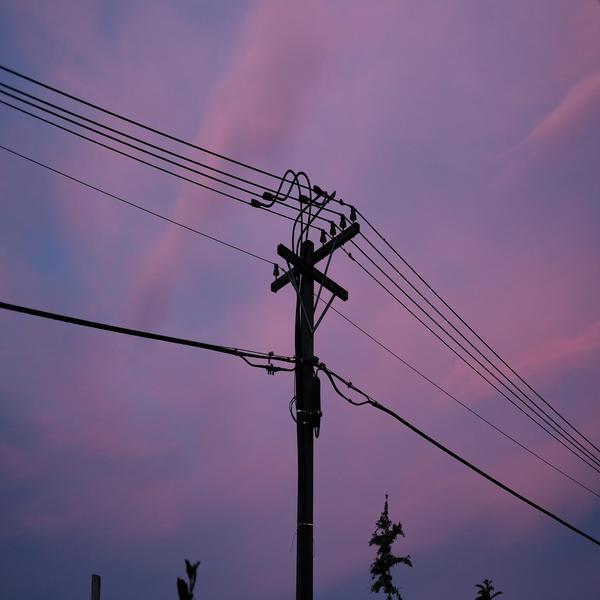utility_pole: (235, 151, 384, 449)
